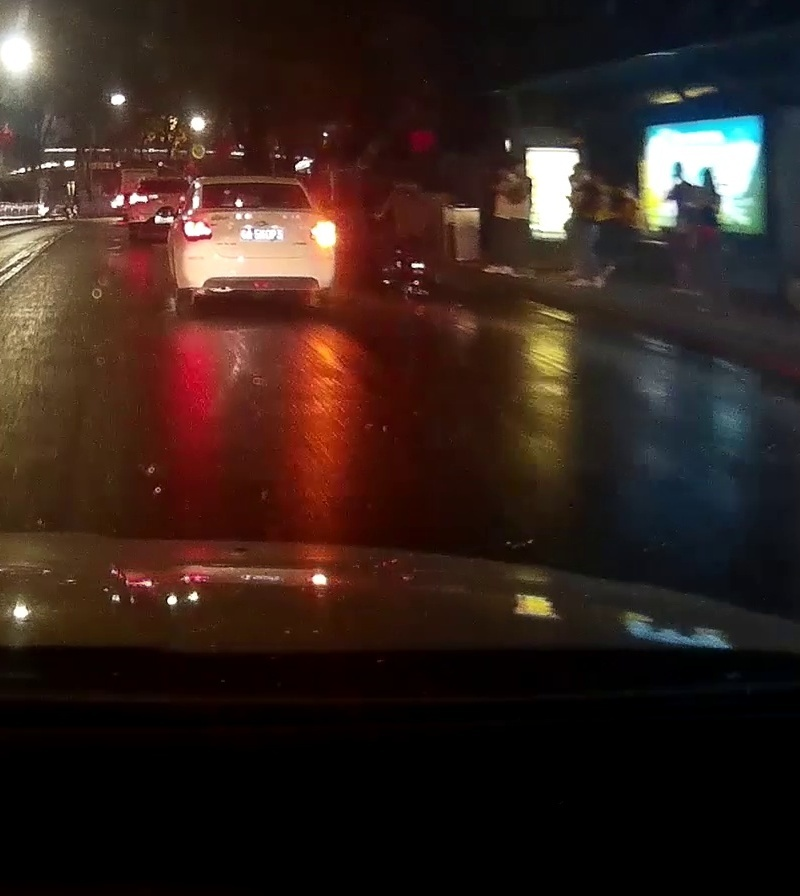L_light: (181, 220, 212, 240)
R_light: (310, 222, 333, 241)
T_light: (241, 181, 263, 189)
night-right: (174, 176, 334, 309)
